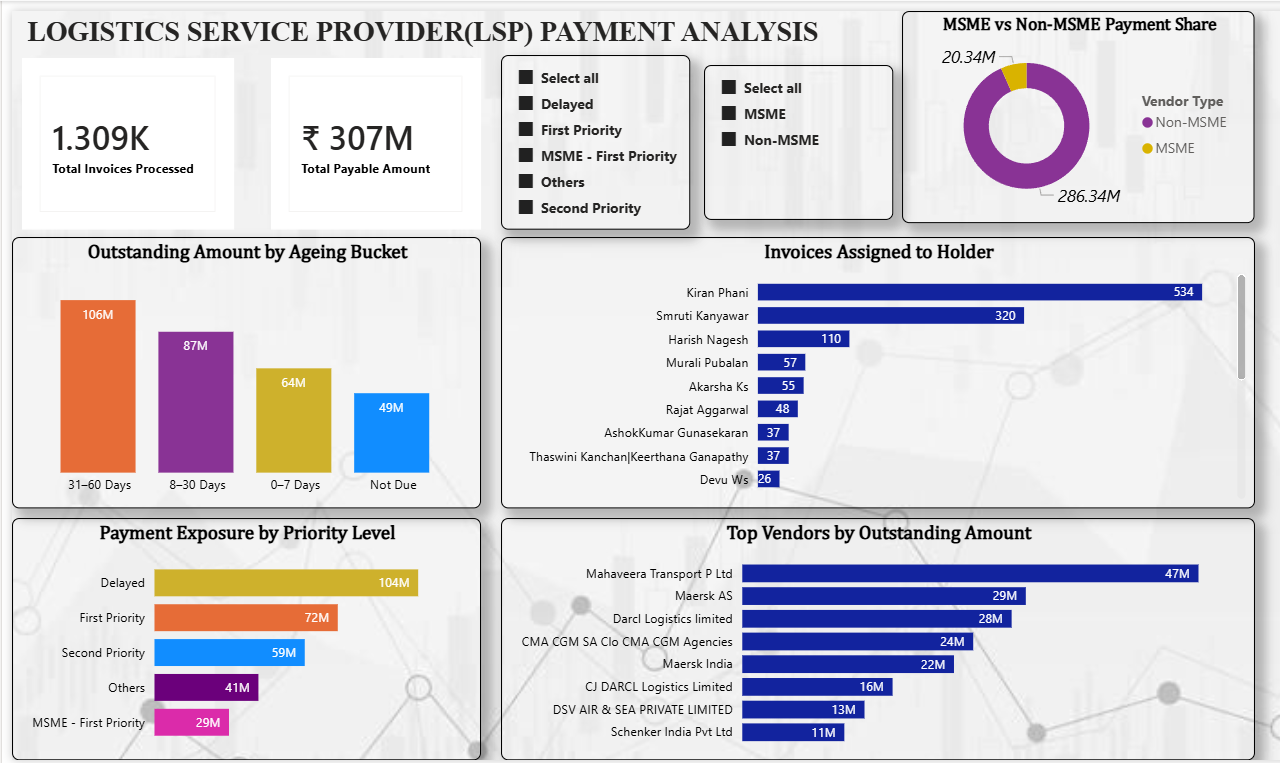

The page's visual inventory and layout, read from the dashboard file:
{"tool":"powerbi","page":{"name":"Page 1","canvas":[1280,720],"ordinal":0},"visuals":[{"type":"textbox","box":[9.6,0,826.9,74],"z":0},{"type":"cardVisual","fields":{"Data":["CountNonNull(inv_aw.Invoice No)"]},"box":[9.6,45.2,203.8,165.4],"z":1000},{"type":"cardVisual","fields":{"Data":["Sum(inv_aw.Amount(loc.cur))"]},"box":[249,45.2,201.9,165.4],"z":2000},{"type":"clusteredBarChart","title":"Payment Exposure by Priority Level","fields":{"Category":["inv_aw.Priority"],"Y":["Sum(inv_aw.Amount(loc.cur))"]},"box":[0,487.5,451,232.7],"z":3000},{"type":"donutChart","title":"MSME vs Non-MSME Payment Share","fields":{"Category":["inv_aw.Vendor Type "],"Y":["Sum(inv_aw.Amount(loc.cur))"]},"box":[855.8,0,339.4,203.8],"z":4000},{"type":"clusteredColumnChart","title":"Outstanding Amount by Ageing Bucket","fields":{"Y":["Sum(inv_aw.Amount(loc.cur))"],"Category":["inv_aw.Ageing Bucket"]},"box":[0,217.3,451,260.6],"z":5000},{"type":"barChart","title":"Top Vendors by Outstanding Amount","fields":{"Category":["inv_aw.Vendor name"],"Y":["Sum(inv_aw.Amount(loc.cur))"]},"box":[470.2,487.5,725,232.7],"z":6000},{"type":"barChart","title":"Invoices Assigned to Holder","fields":{"Y":["CountNonNull(inv_aw.Invoice No)"],"Category":["inv_aw.Holder Name"]},"box":[470.2,217.3,725,260.6],"z":7000},{"type":"slicer","fields":{"Values":["inv_aw.Priority"]},"box":[470.2,42.3,181.7,168.3],"z":8000},{"type":"slicer","fields":{"Values":["inv_aw.Vendor Type "]},"box":[665.4,51.9,181.7,149],"z":9000}]}

Visuals, with their boxes in screenshot pixels (x1, y1, x2, y2):
textbox: bbox=[30, 17, 875, 92]
cardVisual - CountNonNull(inv_aw.Invoice No): bbox=[30, 63, 238, 232]
cardVisual - Sum(inv_aw.Amount(loc.cur)): bbox=[275, 63, 481, 232]
"Payment Exposure by Priority Level" clusteredBarChart: bbox=[20, 515, 481, 753]
"MSME vs Non-MSME Payment Share" donutChart: bbox=[895, 17, 1242, 225]
"Outstanding Amount by Ageing Bucket" clusteredColumnChart: bbox=[20, 239, 481, 505]
"Top Vendors by Outstanding Amount" barChart: bbox=[501, 515, 1242, 753]
"Invoices Assigned to Holder" barChart: bbox=[501, 239, 1242, 505]
slicer - inv_aw.Priority: bbox=[501, 60, 687, 232]
slicer - inv_aw.Vendor Type : bbox=[700, 70, 886, 222]
